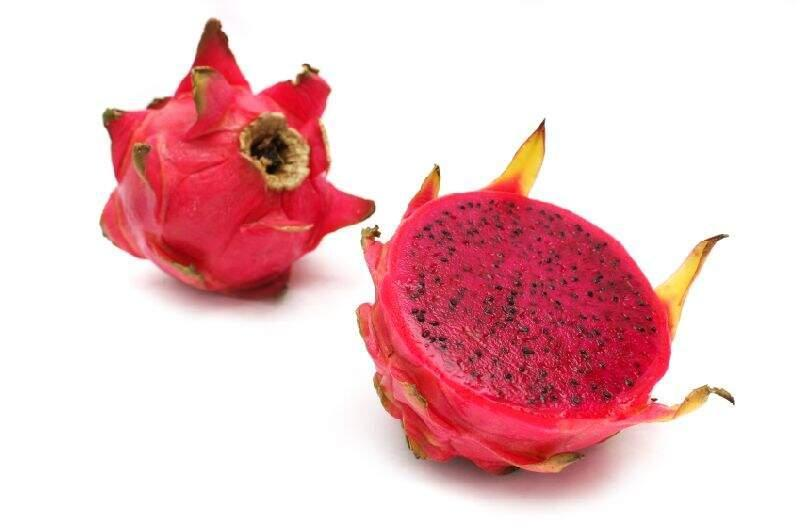dragon-fruit: (372, 189, 673, 470), (115, 82, 333, 297)
